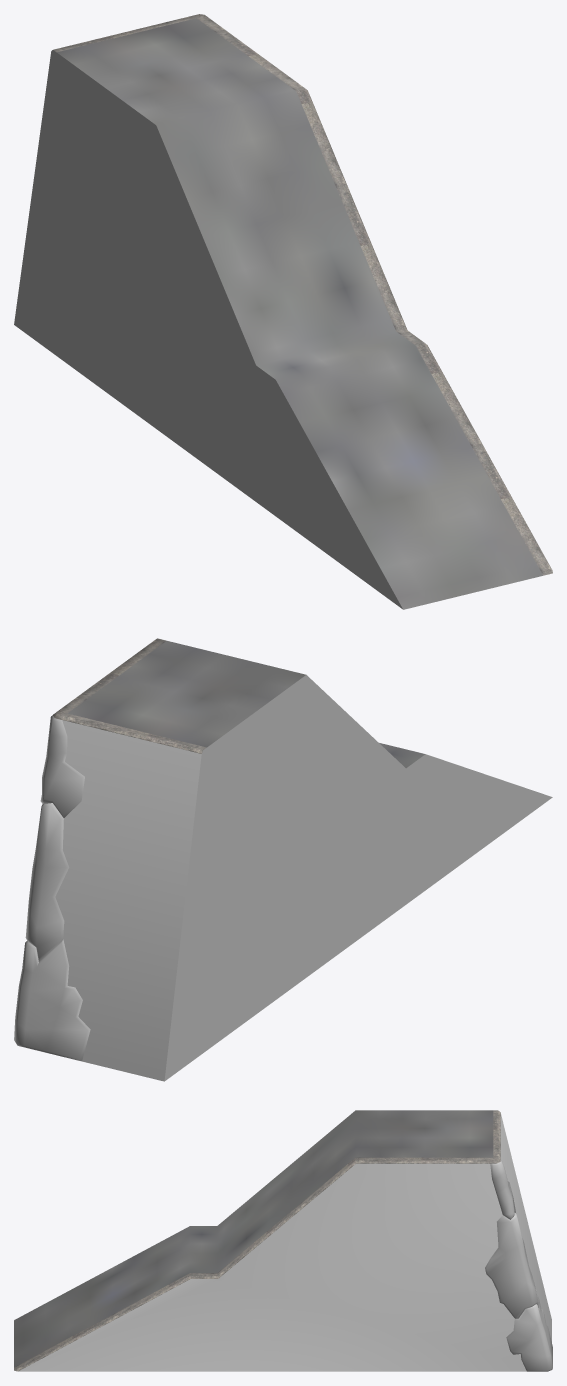
Rendered from JpHouseJ_StoneWall_slope10l.fbx.
The picture shows the model from 3 angles, top to bottom: view 1: azimuth 30°, elevation 25°; view 2: azimuth 150°, elevation 25°; view 3: azimuth 270°, elevation 25°; orthographic projection. The views are drawn at different scales.
Parts seen in each view (by area): view 1: JpHouseJ_StoneWall_slope10l; view 2: JpHouseJ_StoneWall_slope10l; view 3: JpHouseJ_StoneWall_slope10l.
Part boxes in pixels (left/top/right/bottom): JpHouseJ_StoneWall_slope10l: left=14, top=14, right=552, bottom=609; JpHouseJ_StoneWall_slope10l: left=14, top=638, right=552, bottom=1081; JpHouseJ_StoneWall_slope10l: left=14, top=1110, right=552, bottom=1371.
Size of the model in its own units: 2.17 by 4.03 by 9.37.
